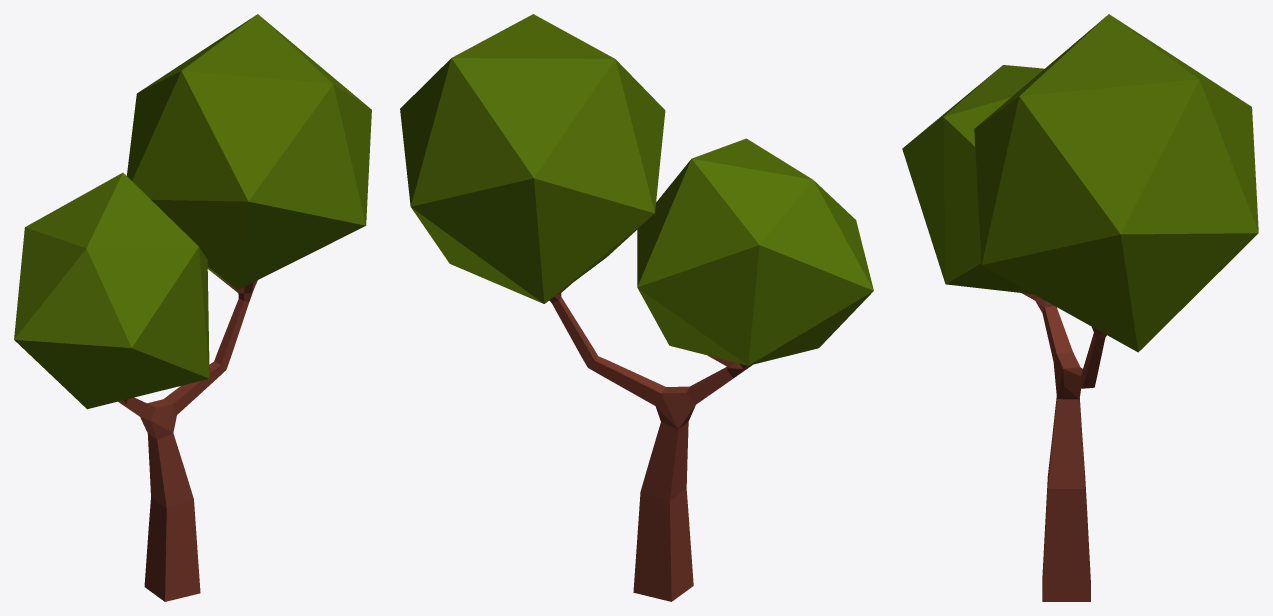
File: tree.fbx
The picture shows the model from 3 angles, left to right: view 1: azimuth 30°, elevation 25°; view 2: azimuth 150°, elevation 25°; view 3: azimuth 270°, elevation 25°; orthographic projection. The views are drawn at different scales.
Parts seen in each view (by area): view 1: leap, branch; view 2: leap, branch; view 3: leap, branch.
Part boxes in pixels (box(x1,y1,x2,y2)): leap: box(14, 14, 371, 409); branch: box(118, 271, 257, 601); leap: box(400, 14, 873, 365); branch: box(549, 284, 752, 601); leap: box(902, 14, 1258, 352); branch: box(1022, 293, 1106, 601).
Bounding box in the file's own units: 246 × 378 × 453.
